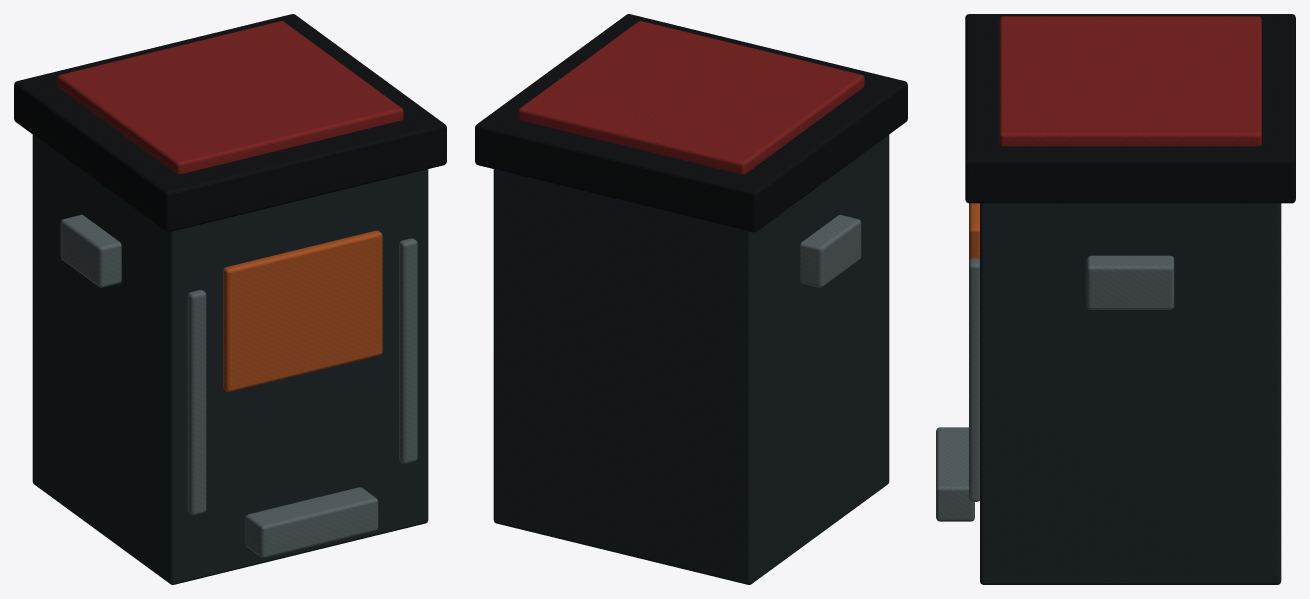
File: BiohazardWasteBin.fbx
3 renders of one model, left to right at view 1: azimuth 30°, elevation 25°; view 2: azimuth 150°, elevation 25°; view 3: azimuth 270°, elevation 25°, orthographic. The views are drawn at different scales.
Parts seen in each view (by area): view 1: BiohazardWasteBin_Mesh; view 2: BiohazardWasteBin_Mesh; view 3: BiohazardWasteBin_Mesh.
Boxes of the visible parts, x1,y1,x2,y2 form: BiohazardWasteBin_Mesh: (14, 14, 446, 584); BiohazardWasteBin_Mesh: (475, 14, 907, 584); BiohazardWasteBin_Mesh: (936, 14, 1295, 584).
Size of the model in its own units: 77 by 101 by 74.
